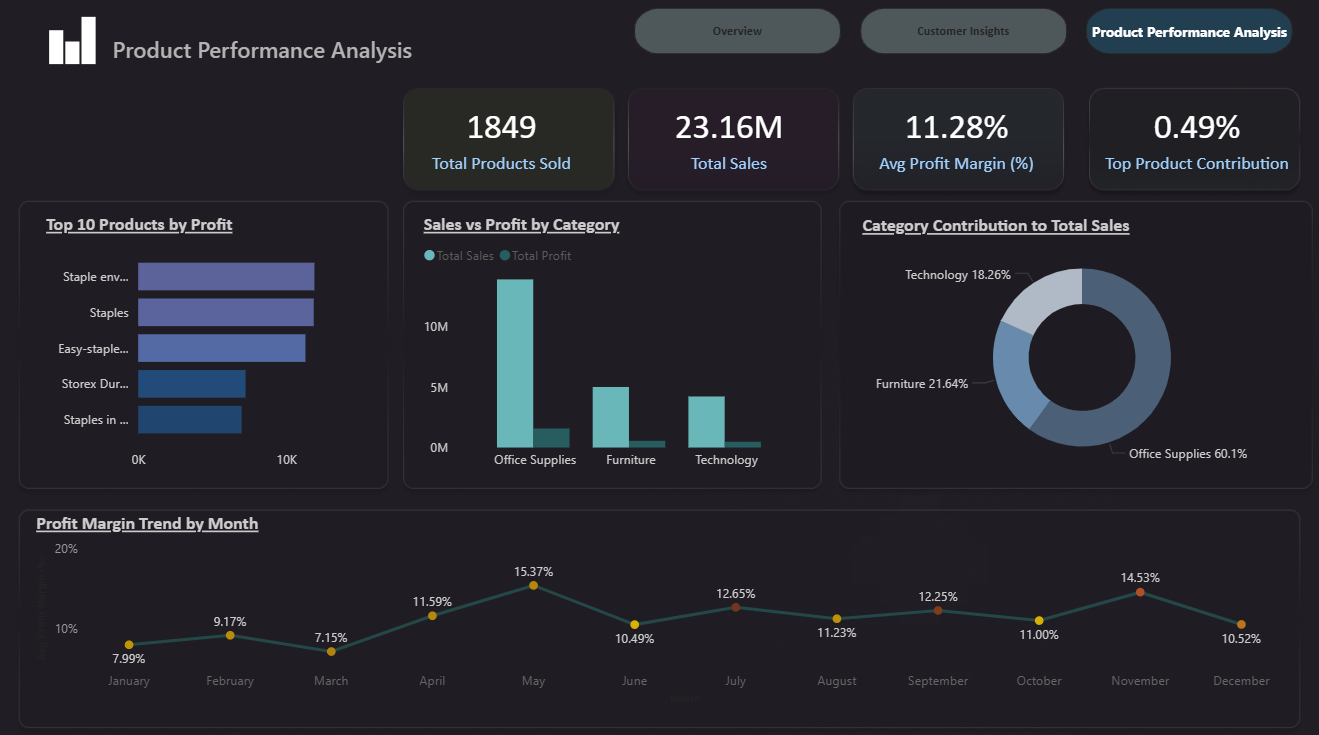

The dashboard page shown, as its layout file describes it:
{"tool":"powerbi","page":{"name":"Product Performance Analysis","canvas":[1280,720],"ordinal":2},"visuals":[{"type":"card","fields":{"Values":["calculation_tbl.Total Products Sold"]},"box":[392.4,77.9,191.9,118.3],"z":0},{"type":"card","fields":{"Values":["calculation_tbl.Total Sales"]},"box":[611.7,77.9,191.9,118.3],"z":1000},{"type":"pageNavigator","box":[611.7,13.3,645.4,45.8],"z":2000},{"type":"card","fields":{"Values":["calculation_tbl.Avg Profit Margin (%)"]},"box":[831.2,78.4,191.8,118.2],"z":3000},{"type":"card","fields":{"Values":["calculation_tbl.Top Product Contribution(%)"]},"box":[1053.2,78.4,212.3,118.2],"z":4000},{"type":"clusteredBarChart","title":"Top 10 Products by Profit","fields":{"Category":["ecommerce_data.product_name"],"Y":["calculation_tbl.Total Profit"]},"box":[43.4,211.1,323.3,257],"z":5000},{"type":"clusteredColumnChart","title":"Sales vs Profit by Category","fields":{"Y":["calculation_tbl.Total Sales","calculation_tbl.Total Profit"],"Category":["ecommerce_data.category_name"]},"box":[408.3,210.6,376.6,256.8],"z":6000},{"type":"donutChart","title":"Category Contribution to Total Sales","fields":{"Category":["ecommerce_data.category_name"],"Y":["calculation_tbl.Total Sales"]},"box":[831.2,212.3,434.3,255.8],"z":7000},{"type":"lineChart","title":"Profit Margin Trend by Month","fields":{"Y":["calculation_tbl.Avg Profit Margin (%)"],"Category":["Date_tbl.Month"]},"box":[33.8,499.5,1212.5,191.8],"z":8000},{"type":"textbox","box":[107.4,33.8,335.4,44.6],"z":8001},{"type":"image","box":[22.9,13.3,101.3,59.1],"z":8002}]}

Visuals, with their boxes in screenshot pixels (x1, y1, x2, y2), scaled from the page's 1280x720 canvas onto the 1319x735 screenshot:
card - calculation_tbl.Total Products Sold: (x1=404, y1=80, x2=602, y2=200)
card - calculation_tbl.Total Sales: (x1=630, y1=80, x2=828, y2=200)
pageNavigator: (x1=630, y1=14, x2=1295, y2=60)
card - calculation_tbl.Avg Profit Margin (%): (x1=857, y1=80, x2=1054, y2=201)
card - calculation_tbl.Top Product Contribution(%): (x1=1085, y1=80, x2=1304, y2=201)
"Top 10 Products by Profit" clusteredBarChart: (x1=45, y1=215, x2=378, y2=478)
"Sales vs Profit by Category" clusteredColumnChart: (x1=421, y1=215, x2=809, y2=477)
"Category Contribution to Total Sales" donutChart: (x1=857, y1=217, x2=1304, y2=478)
"Profit Margin Trend by Month" lineChart: (x1=35, y1=510, x2=1284, y2=706)
textbox: (x1=111, y1=35, x2=456, y2=80)
image: (x1=24, y1=14, x2=128, y2=74)
